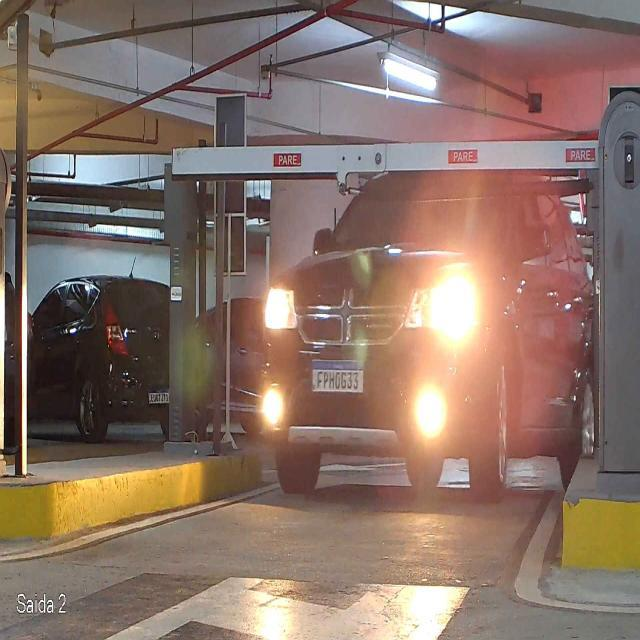mercosul_plate: (309, 358, 366, 394)
